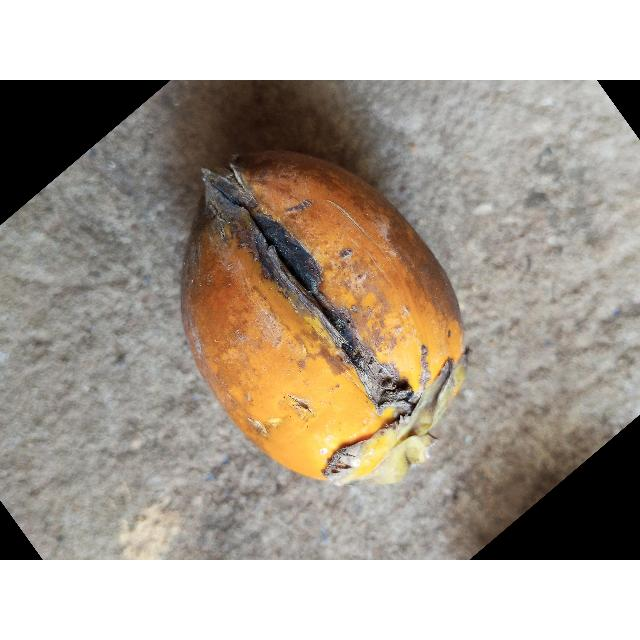damaged: (182, 151, 466, 488)
